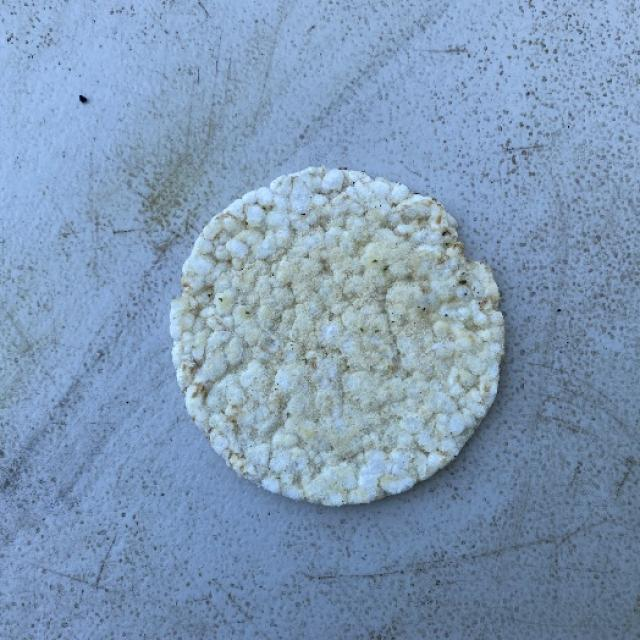organik: (173, 168, 509, 514)
